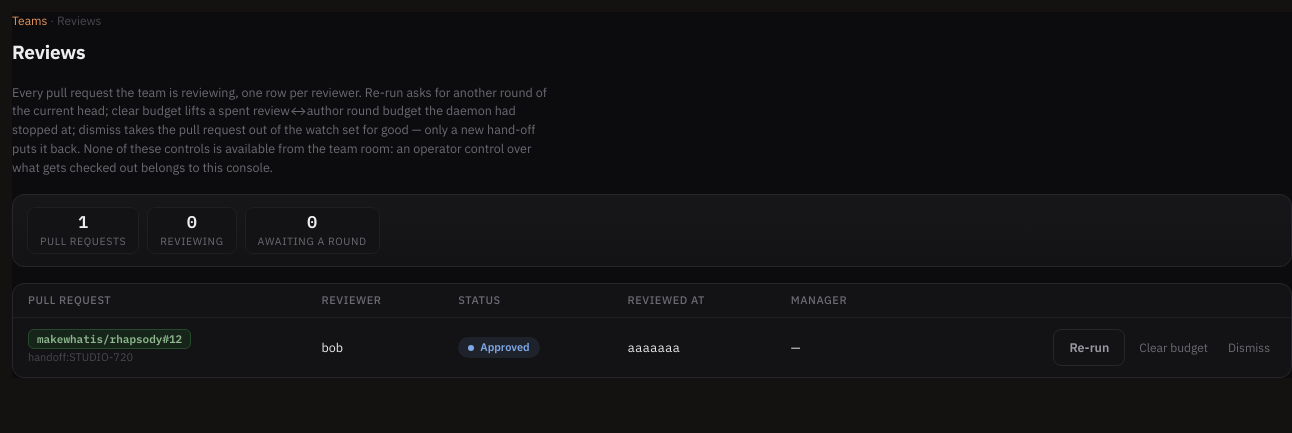
Test: the Reviews surface › says how many reviewers a re-run re-armed
Click the button with aria-label "Re-run the review of makewhatis/rhapsody#12": (1089, 347) [1053,329,1125,366]
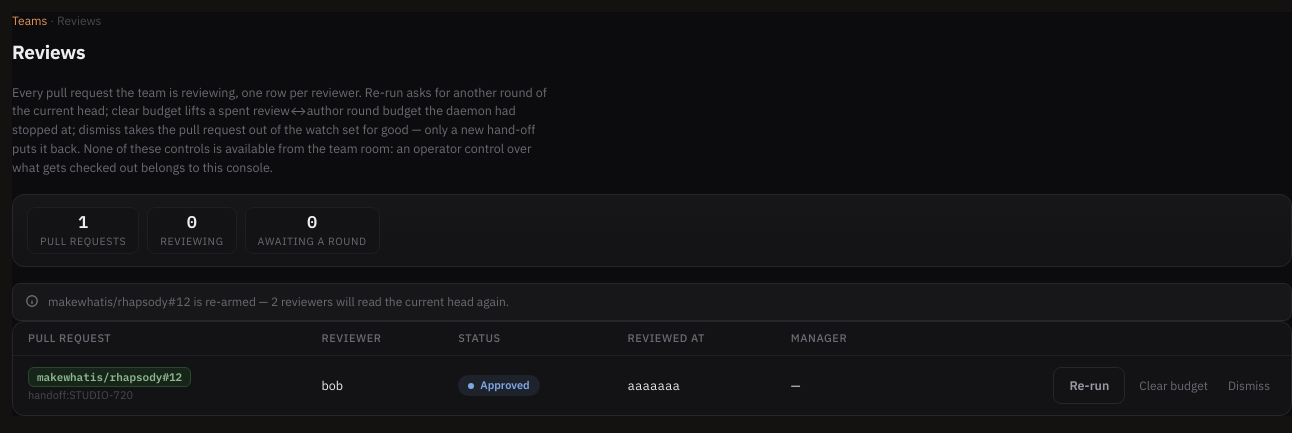
Check: the message shows "re-armed", box [48,294,509,309]
Check: the message shows "2 reviewers", box [48,294,509,309]
